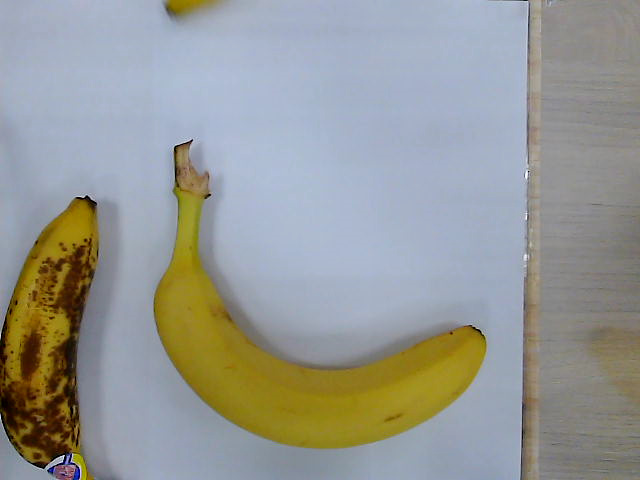fresh_banana: (155, 139, 484, 449)
rotten_banana: (1, 197, 100, 480)
